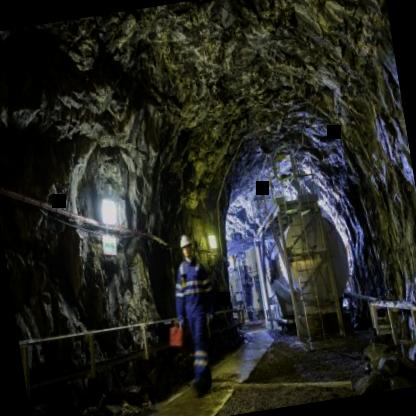helmet: (177, 232, 196, 264)
